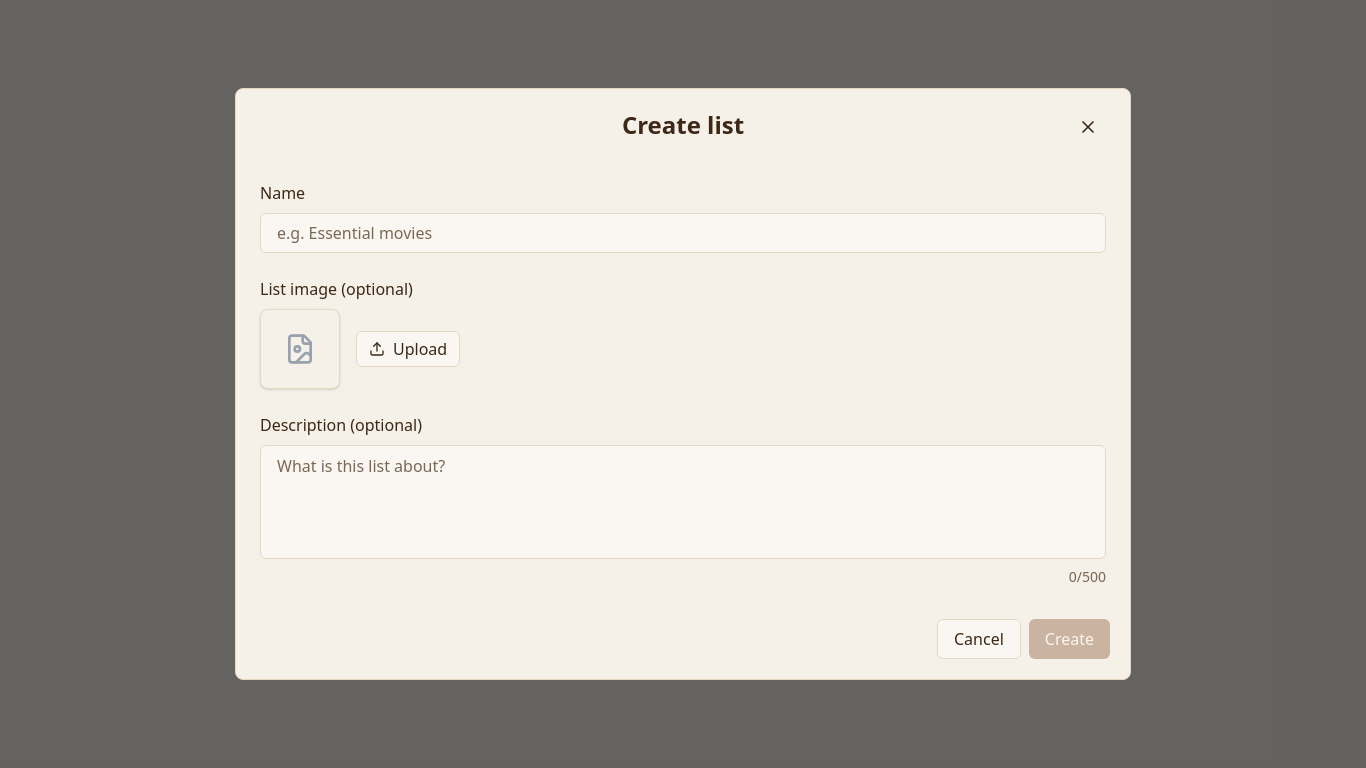
CreateListModal › disables the create button until the name is long enough
Expected: the button "Create" is disabled, [1029,619,1110,659]
Type "a" into the field with placeholder "e.g. Essential movies" at [683, 233], box [260,213,1106,253]
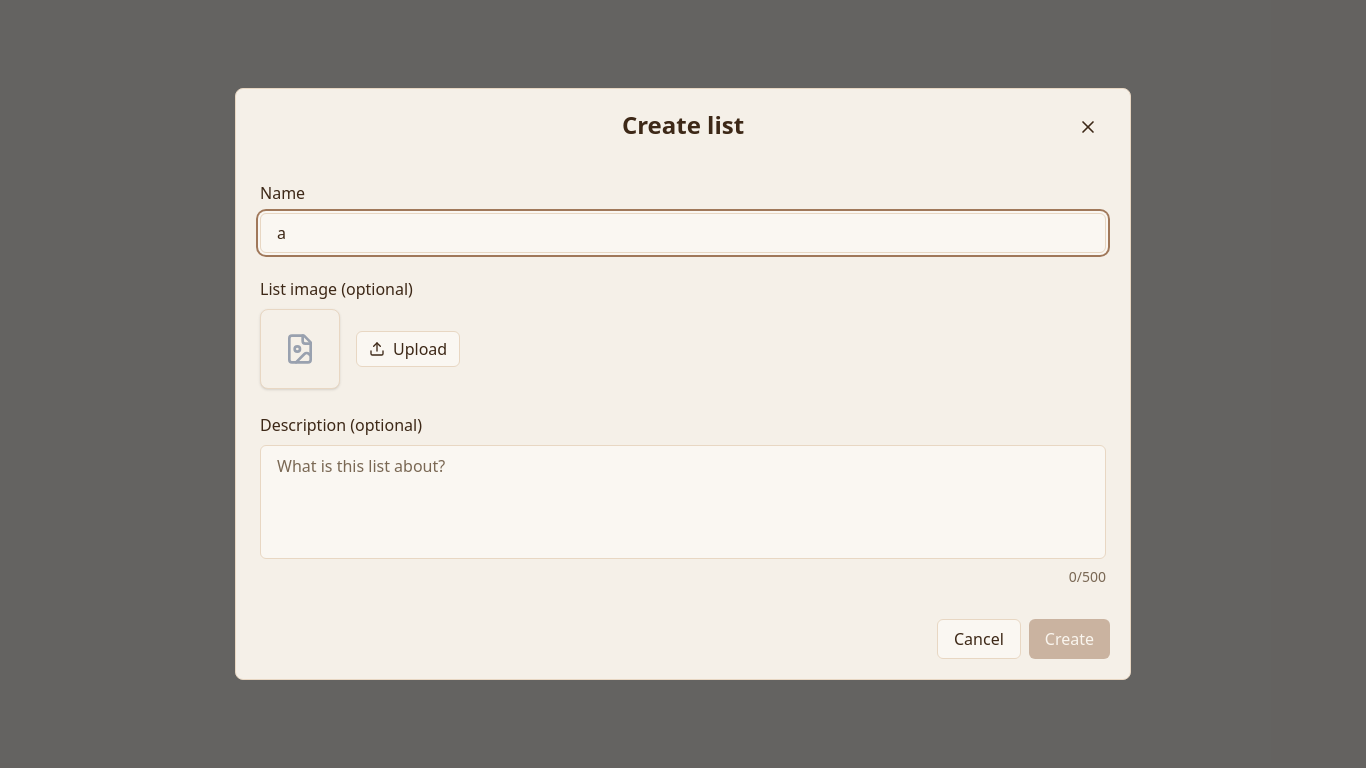
Expected: the button "Create" is disabled, [1029,619,1110,659]
Type "bc" into the field with placeholder "e.g. Essential movies" at [683, 233], box [260,213,1106,253]
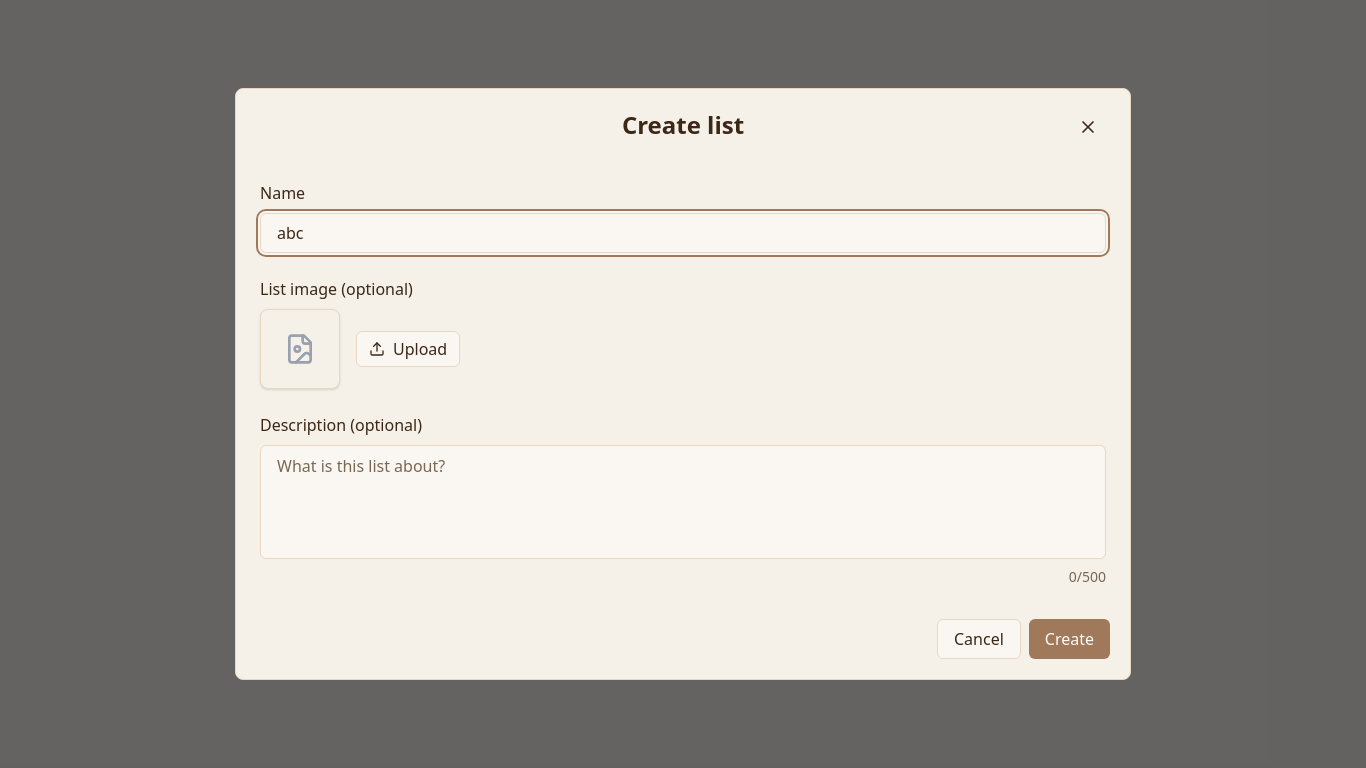
Expected: the button "Create" is enabled, [1029,619,1110,659]
